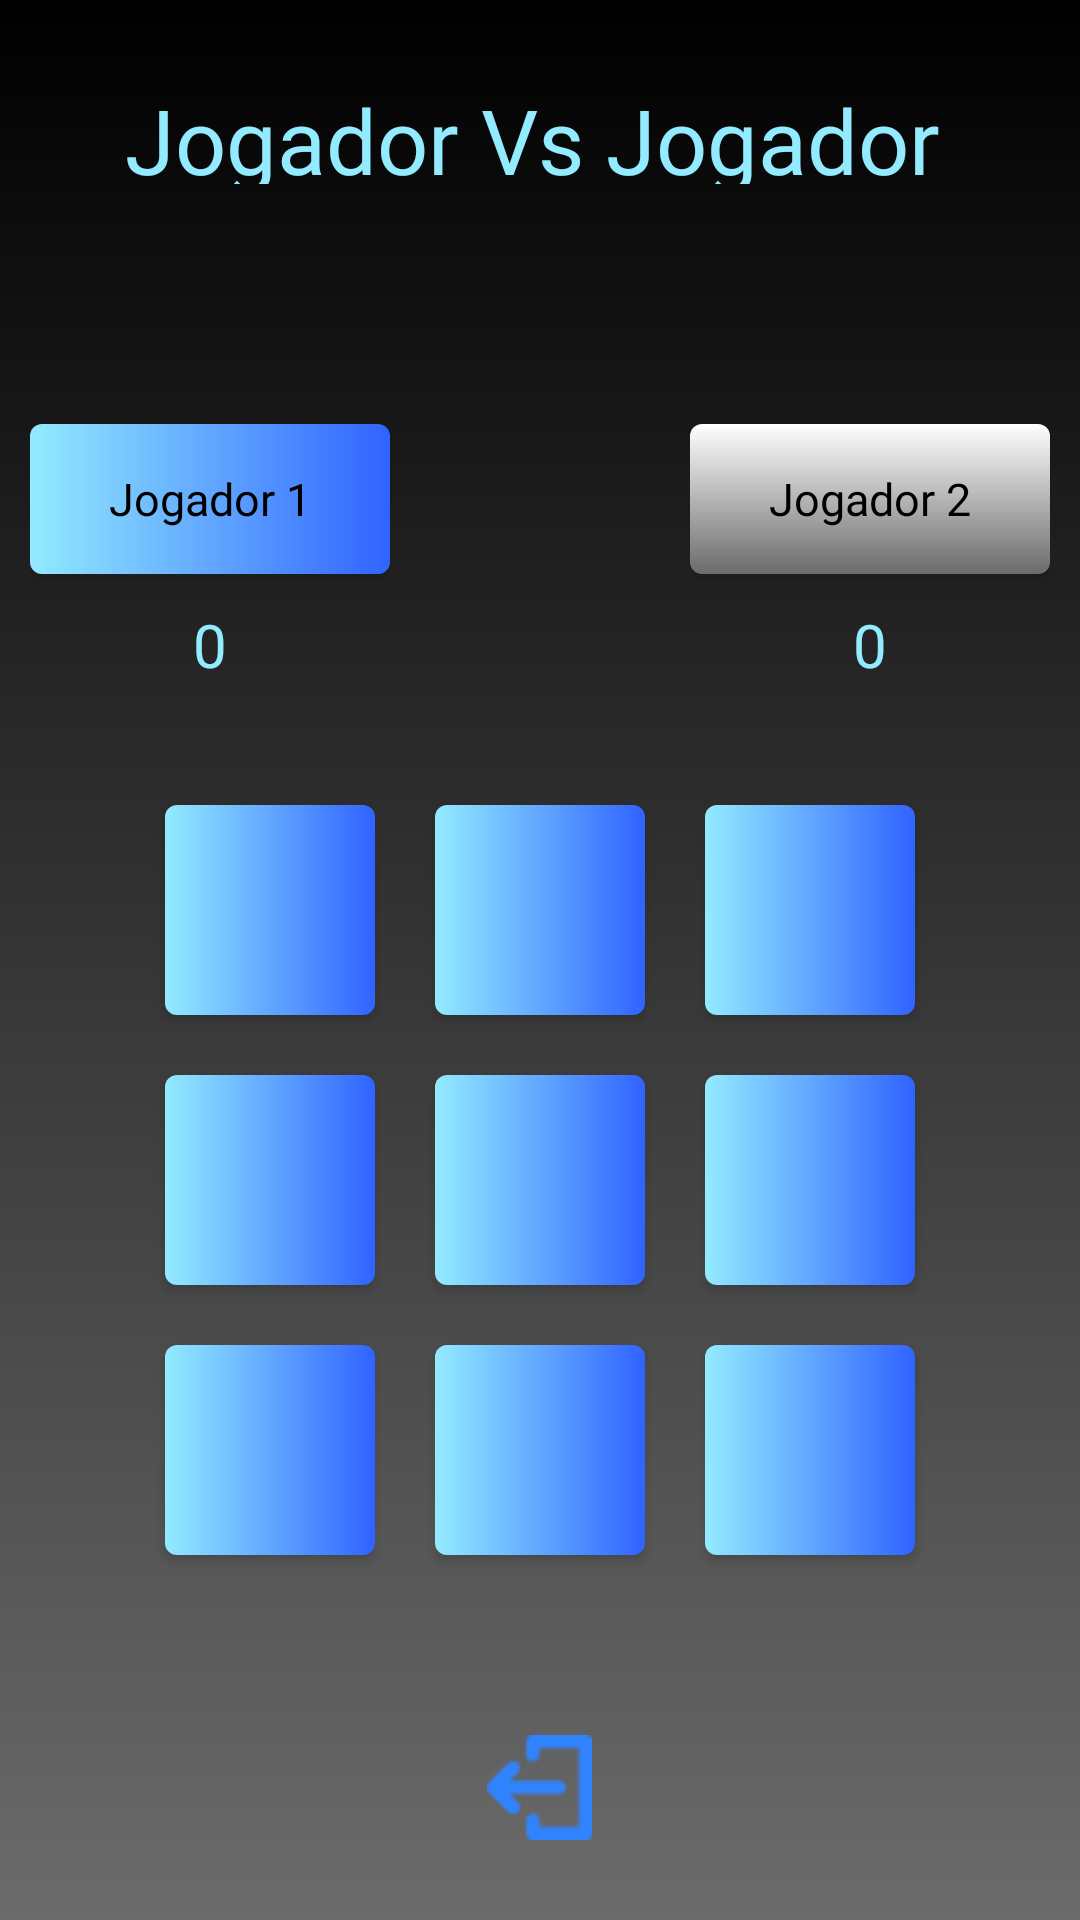

Icons on this 1080*1920 Android screen, each with the point to tap as [x,y]:
sairicone: [539,1787]
